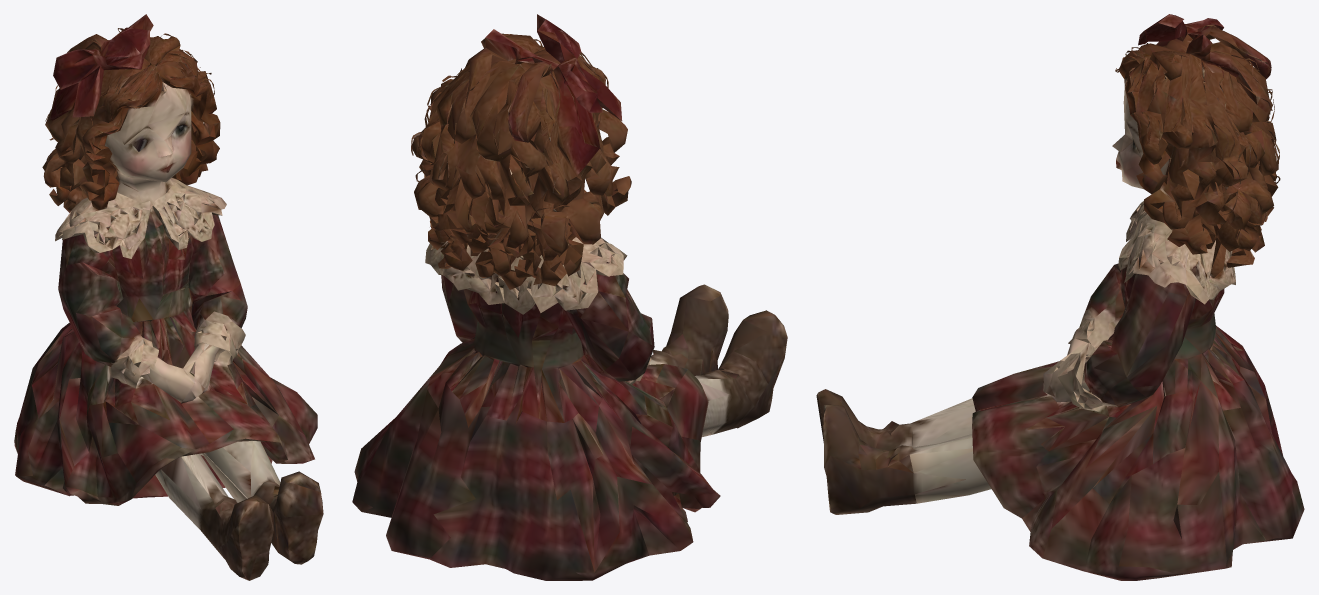
File: up_doll_tartan.glb
The picture shows the model from 3 angles, left to right: view 1: azimuth 30°, elevation 25°; view 2: azimuth 150°, elevation 25°; view 3: azimuth 270°, elevation 25°; orthographic projection. The views are drawn at different scales.
Parts seen in each view (by area): view 1: up_doll_tartan; view 2: up_doll_tartan; view 3: up_doll_tartan.
Boxes of the visible parts, x1,y1,x2,y2 form: up_doll_tartan: [14, 14, 323, 580]; up_doll_tartan: [352, 14, 787, 580]; up_doll_tartan: [816, 14, 1304, 580].
Size of the model in its own units: 0.3301 by 0.48 by 0.4295.
Materials: 1 (1 with a texture image).
